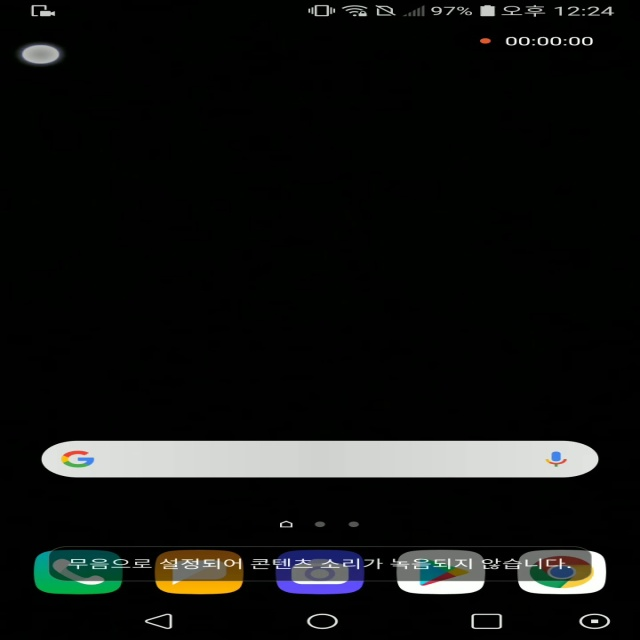Cursor: (18, 44, 63, 67)
